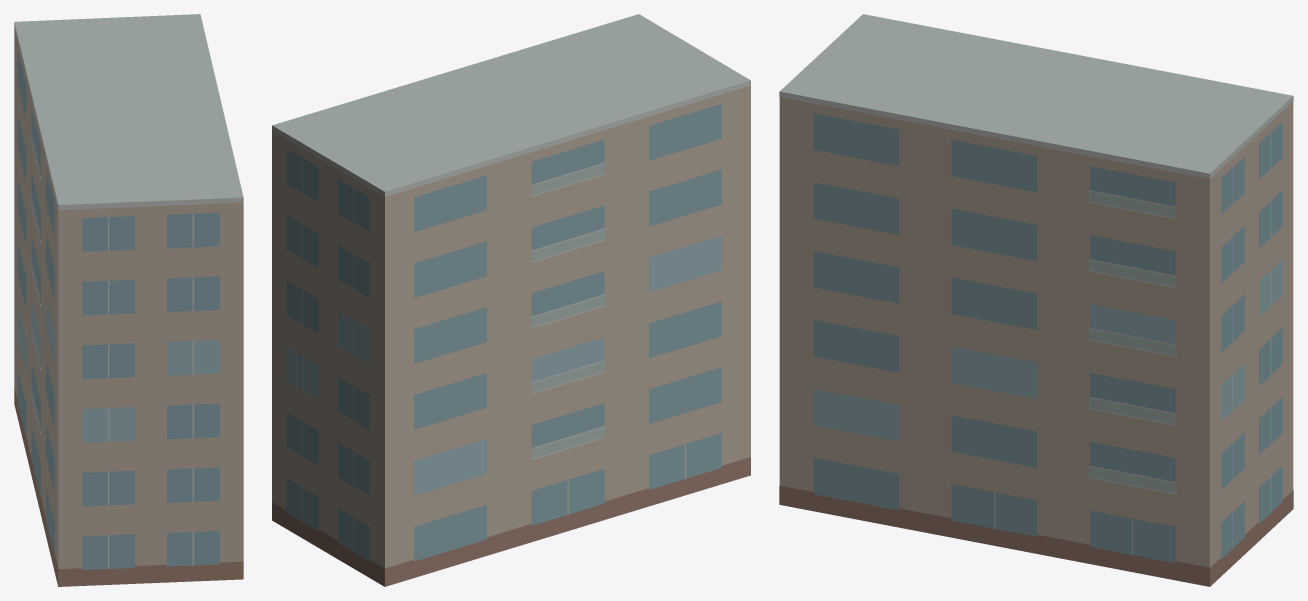
The model's file is survey-upis-32551095.glb.
3 views of the same model, side by side, from view 1: azimuth 30°, elevation 25°; view 2: azimuth 150°, elevation 25°; view 3: azimuth 270°, elevation 25° (orthographic). The views are drawn at different scales.
Visible parts, largest first — view 1: survey-upis-32551095.tmp; view 2: survey-upis-32551095.tmp; view 3: survey-upis-32551095.tmp.
Boxes of the visible parts, box(x1,y1,x2,y2) form: survey-upis-32551095.tmp: box(14, 14, 243, 586); survey-upis-32551095.tmp: box(272, 14, 750, 586); survey-upis-32551095.tmp: box(779, 14, 1293, 586).
Bounding box in the file's own units: 15.18 × 18.3 × 20.64.
